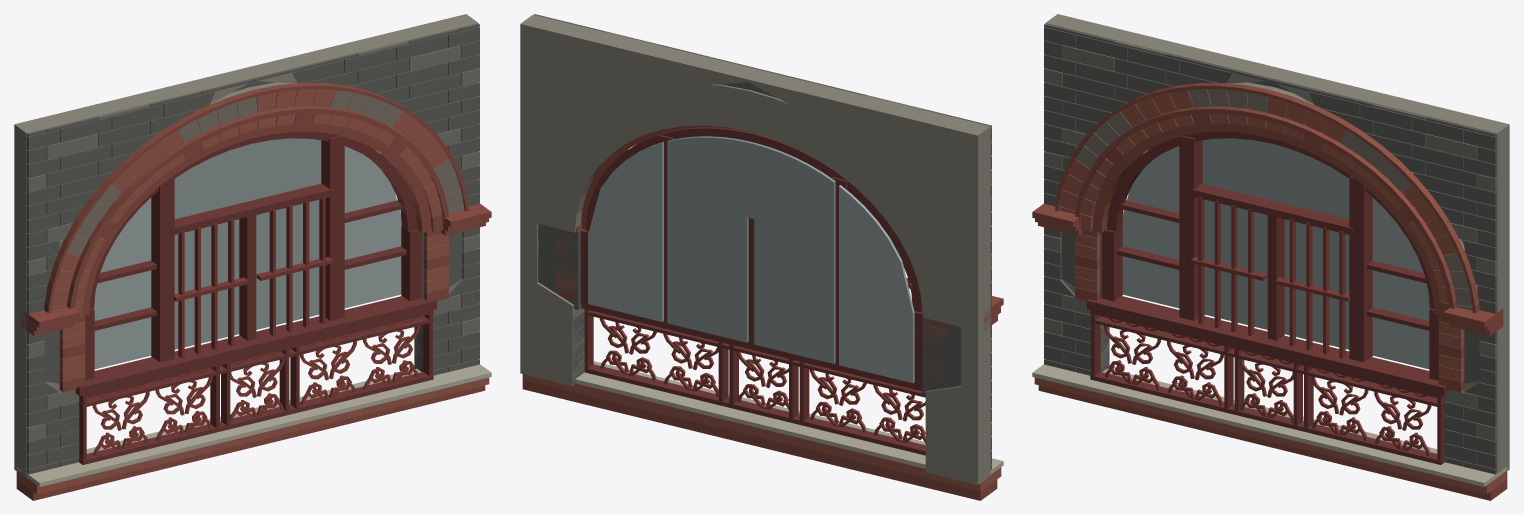
File: hongkou-anglo-chinese-school-arched-window-lod.glb
The picture shows the model from 3 angles, left to right: view 1: azimuth 30°, elevation 25°; view 2: azimuth 150°, elevation 25°; view 3: azimuth 330°, elevation 25°; orthographic projection.
Parts seen in each view (by area): view 1: 英华书馆双色砖券窗与镂花裙板; view 2: 英华书馆双色砖券窗与镂花裙板; view 3: 英华书馆双色砖券窗与镂花裙板.
Part boxes in pixels (box(x1,y1,x2,y2)): 英华书馆双色砖券窗与镂花裙板: box(14, 14, 491, 500); 英华书馆双色砖券窗与镂花裙板: box(520, 14, 1003, 500); 英华书馆双色砖券窗与镂花裙板: box(1032, 14, 1509, 500).
Size of the model in its own units: 4.1 by 3.14 by 0.4.
